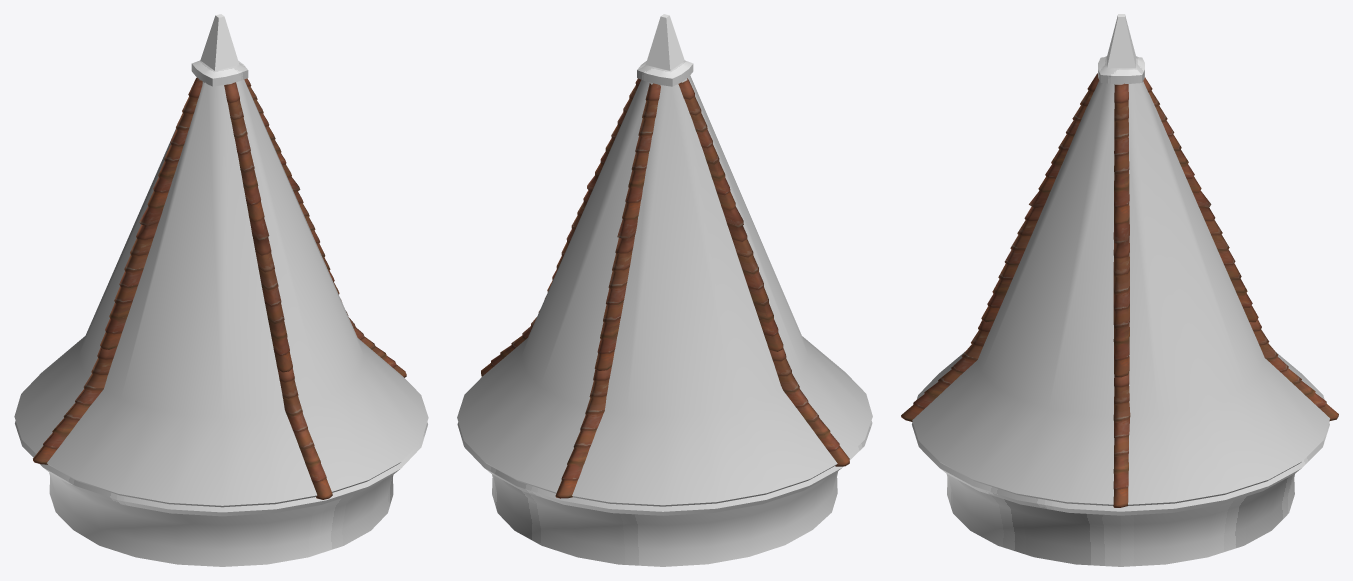
Rendered from SM_AlchemyS_Tower_Roof.fbx.
The picture shows the model from 3 angles, left to right: view 1: azimuth 30°, elevation 25°; view 2: azimuth 150°, elevation 25°; view 3: azimuth 270°, elevation 25°; orthographic projection.
Visible parts, largest first — view 1: SM_AlchemyS_Tower_Roof_LOD0; view 2: SM_AlchemyS_Tower_Roof_LOD0; view 3: SM_AlchemyS_Tower_Roof_LOD0.
Boxes of the visible parts, x1,y1,x2,y2 form: SM_AlchemyS_Tower_Roof_LOD0: (14, 14, 428, 566); SM_AlchemyS_Tower_Roof_LOD0: (457, 14, 872, 566); SM_AlchemyS_Tower_Roof_LOD0: (901, 14, 1338, 566).
Size of what is drawn, in the model's own units: 9.51 by 11.82 by 9.74.
